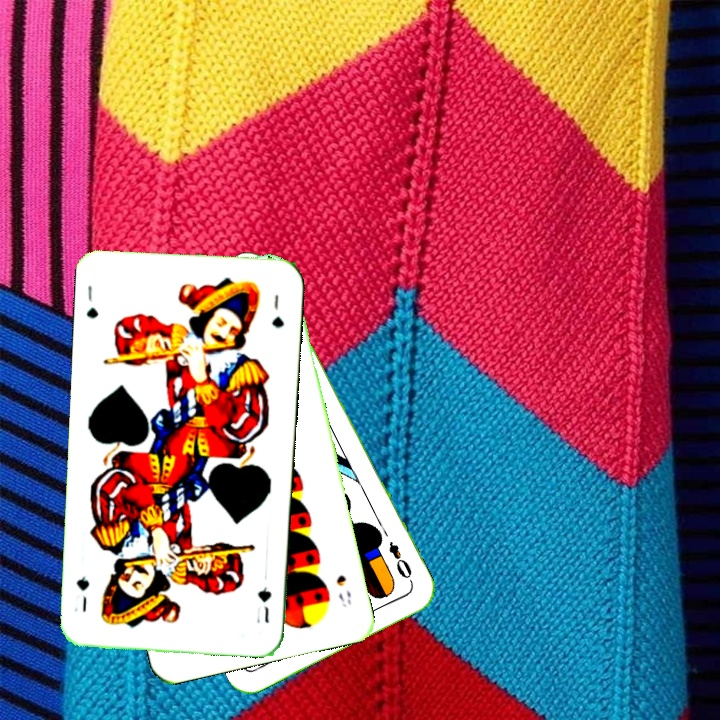EO: (384, 537, 416, 587)
GU: (254, 583, 274, 625), (83, 281, 101, 321)
S8: (332, 570, 354, 610)
